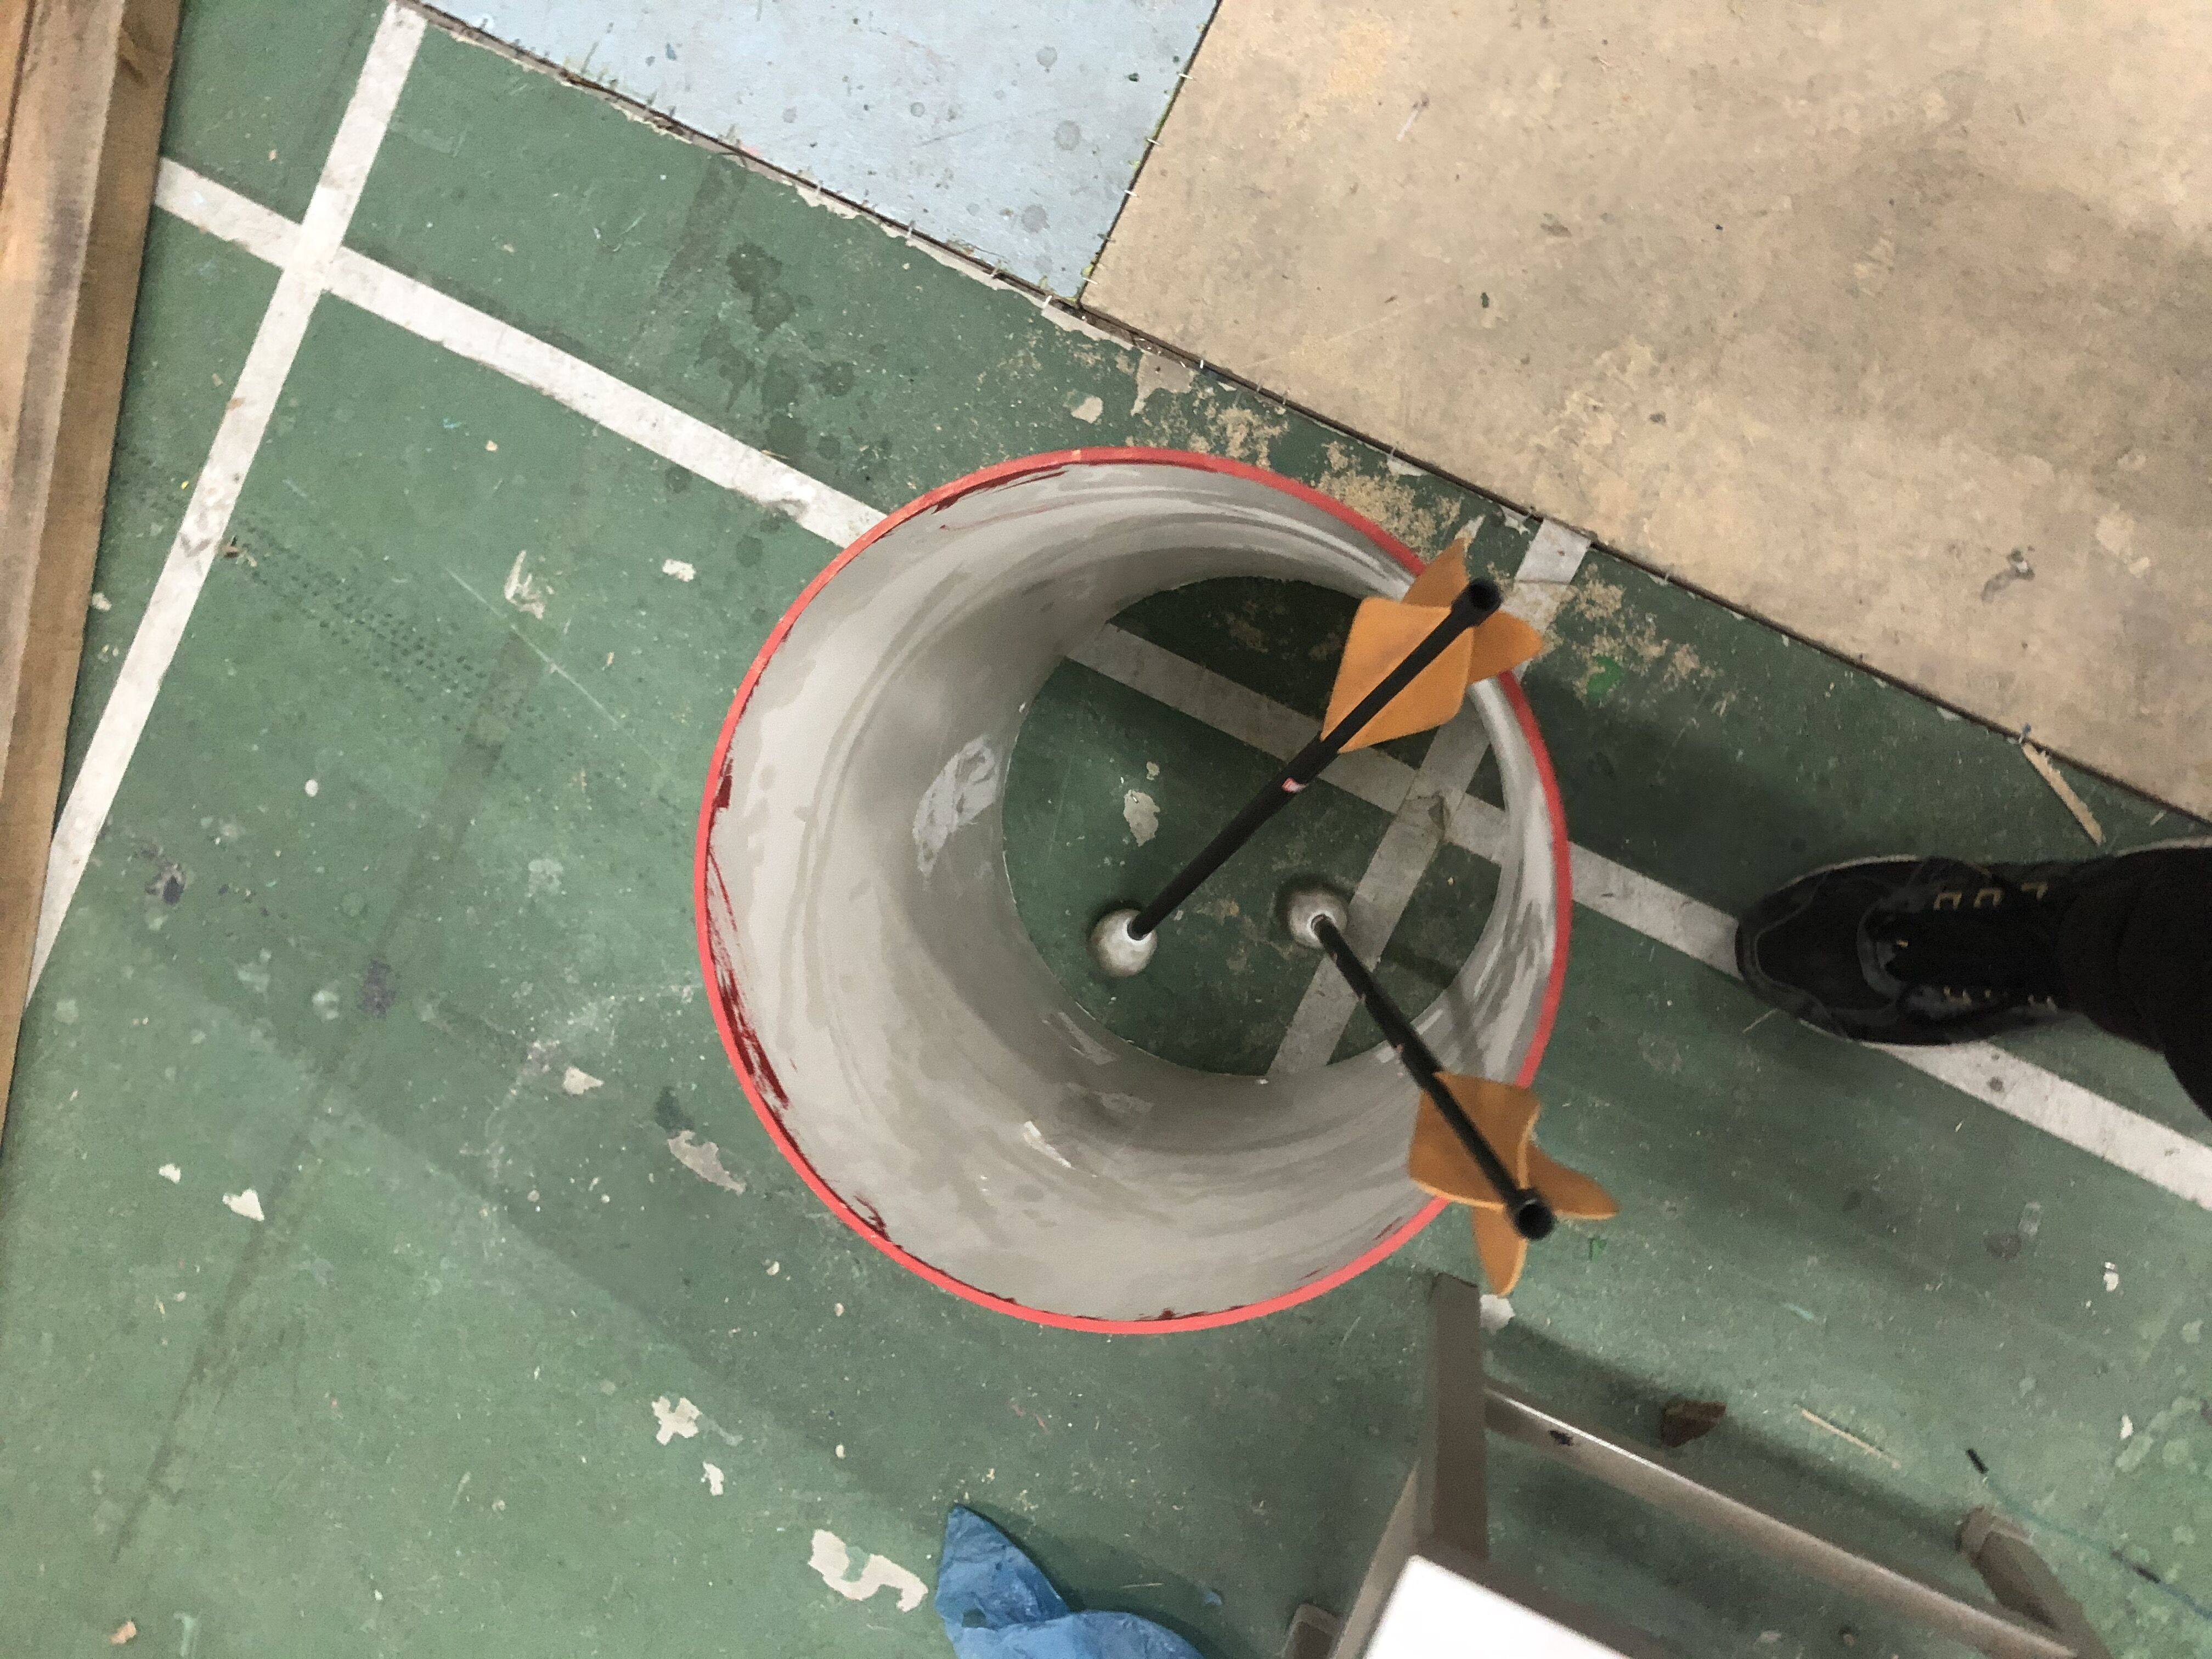arrow: (1089, 538, 1545, 983), (1284, 889, 1616, 1297)
arrowFront: (1087, 904, 1160, 983), (1282, 887, 1350, 951)
